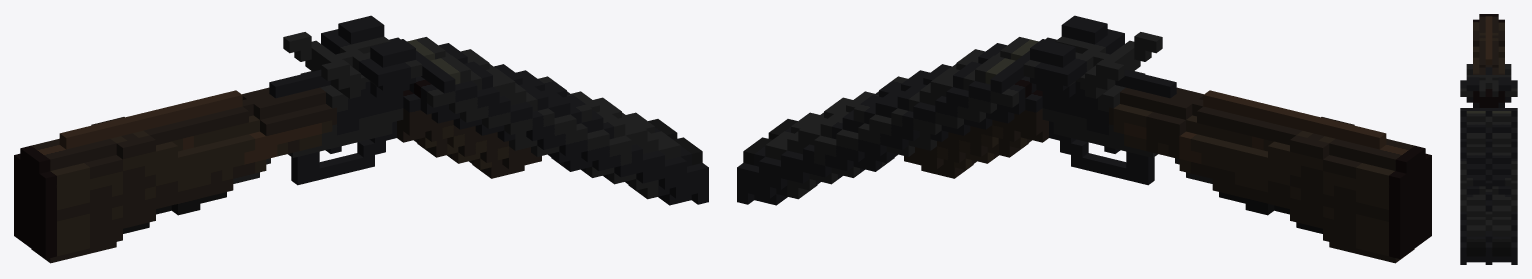
File: ssg2.obj
3 renders of one model, left to right at view 1: azimuth 30°, elevation 25°; view 2: azimuth 150°, elevation 25°; view 3: azimuth 270°, elevation 25°, orthographic. The views are drawn at different scales.
Visible parts, largest first — view 1: state2-flat; view 2: state2-flat; view 3: state2-flat.
Part boxes in pixels (bbox=[...]): state2-flat: bbox=[14, 15, 708, 263]; state2-flat: bbox=[737, 15, 1431, 263]; state2-flat: bbox=[1460, 14, 1517, 264].
Size of the model in its own units: 115 by 37.04 by 17.55.
